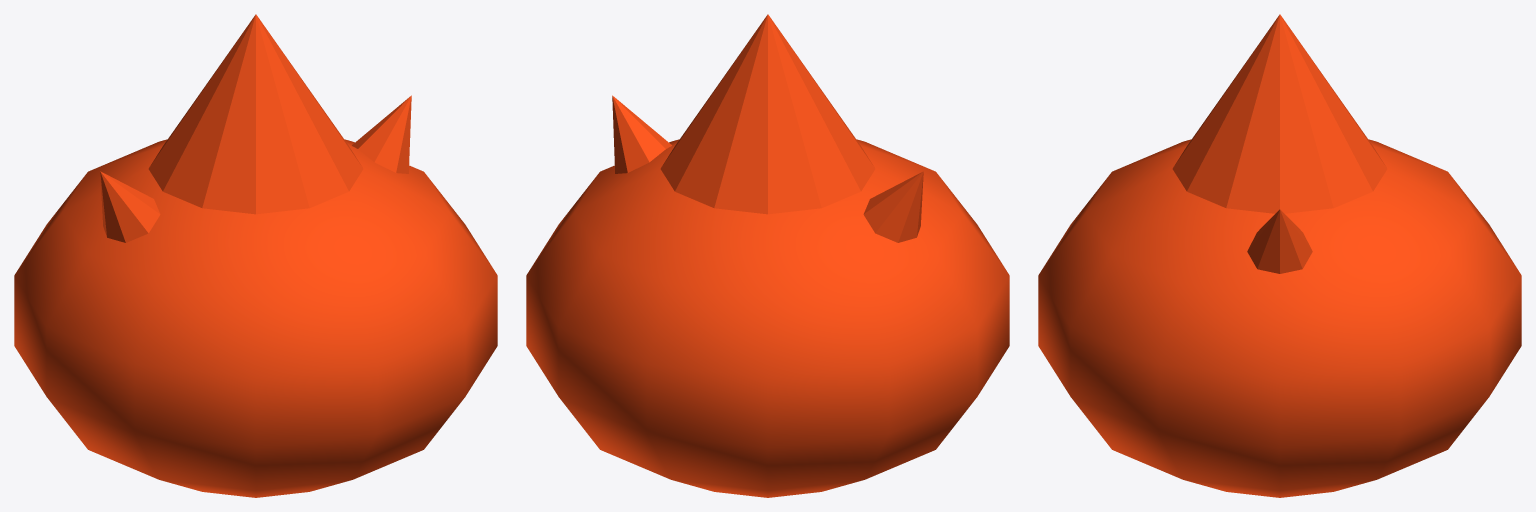
File: Fruto_DragonsBreath.fbx
3 views of the same model, side by side, from view 1: azimuth 30°, elevation 25°; view 2: azimuth 150°, elevation 25°; view 3: azimuth 270°, elevation 25° (orthographic).
Visible parts, largest first — view 1: Produto_DragonsBreath; view 2: Produto_DragonsBreath; view 3: Produto_DragonsBreath.
Boxes of the visible parts, x1,y1,x2,y2 form: Produto_DragonsBreath: (14,14,497,497); Produto_DragonsBreath: (526,14,1009,497); Produto_DragonsBreath: (1038,14,1521,497).
Bounding box in the file's own units: 0.7799 × 0.808 × 0.7799.
Materials: 1 (1 with a texture image).
